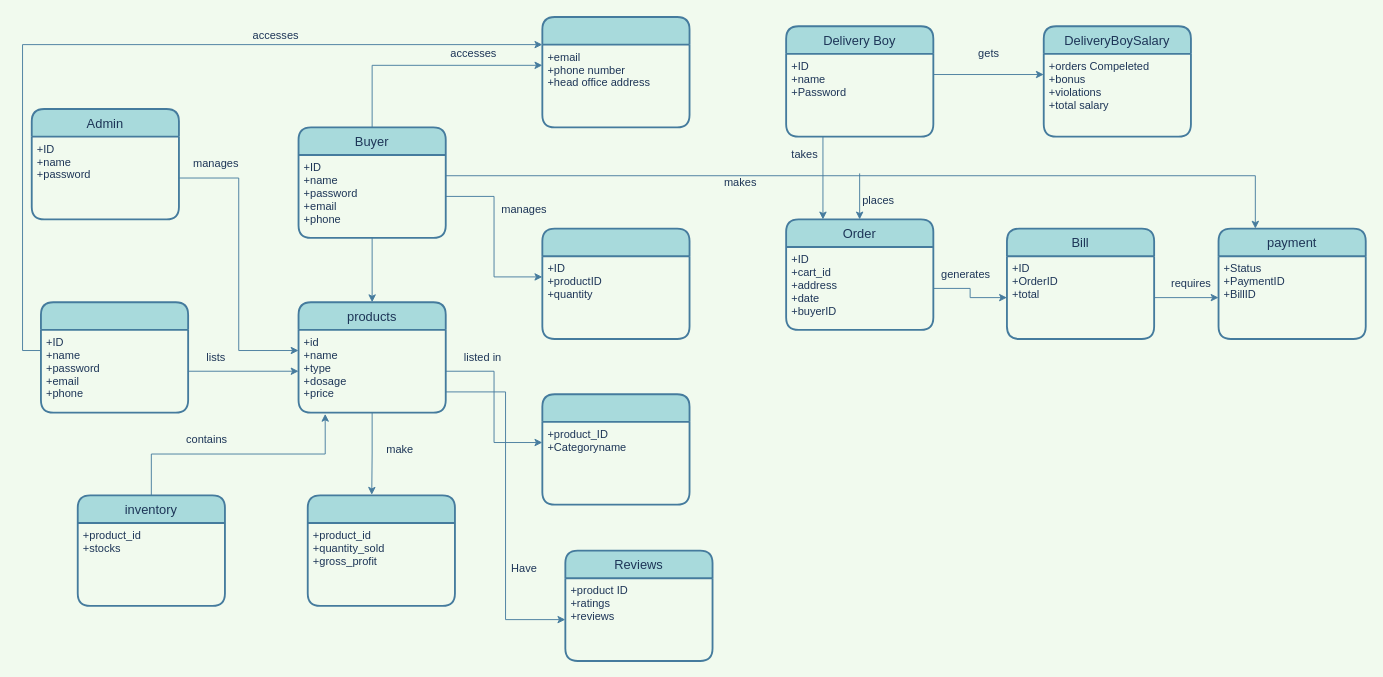
Some shapes in this 1383 by 677 pixel diagram are drawn without their labels. Here are the shapes that lost their labels. From the top down, the box of each, then its label:
(541, 16, 690, 128): MedFastContact
(541, 227, 690, 339): Cart
(40, 301, 189, 413): seller
(541, 393, 690, 505): Categories
(306, 494, 455, 606): Sales
